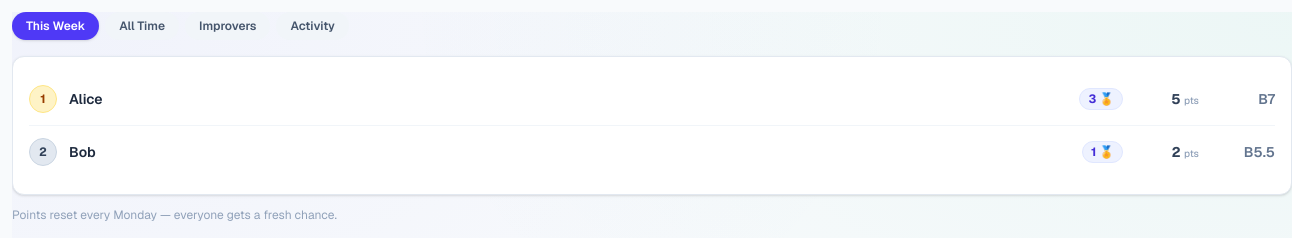
Test: CommunityTabs › shows the activity feed with actor and detail
The width and height of the screenshot is (1292, 238).
Click the button "Activity" at (313, 26), box [276, 12, 349, 40]
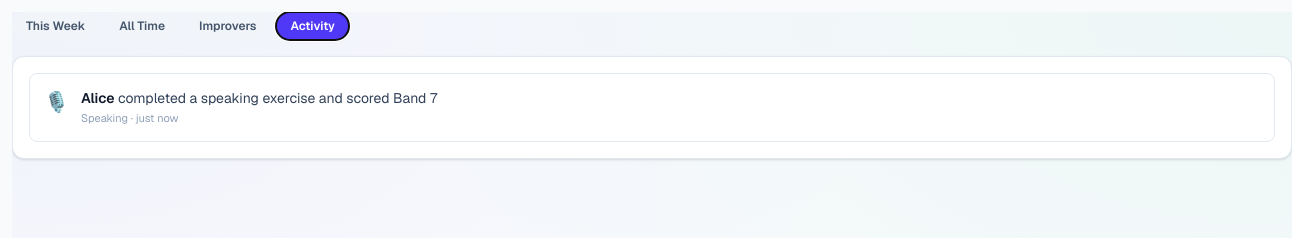
Now the text "completed a speaking exercise and scored Band 7" is shown, box [118, 89, 437, 107]
Now the text "Speaking · just now" is shown, box [81, 111, 178, 125]
